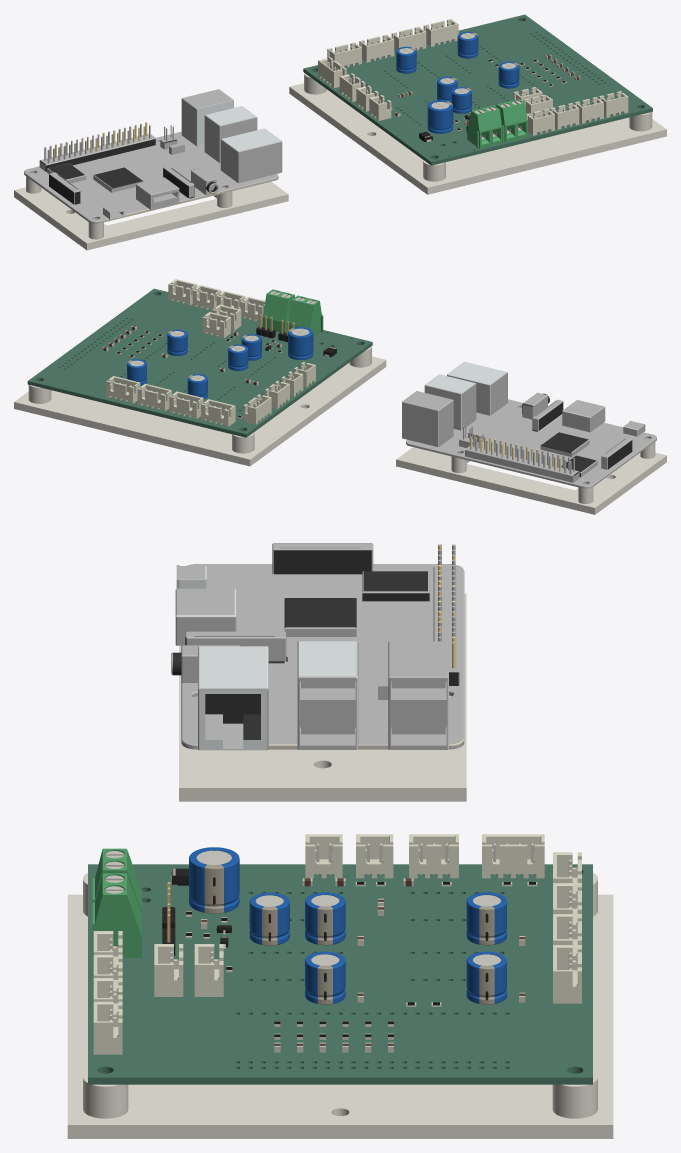
Rendered from electronics.glb.
3 views of the same model, one above another, from view 1: azimuth 30°, elevation 25°; view 2: azimuth 150°, elevation 25°; view 3: azimuth 270°, elevation 25° (orthographic). The views are drawn at different scales.
Visible parts, largest first — view 1: electronics (×11); view 2: electronics (×11); view 3: electronics (×11).
Part boxes in pixels (bbox=[...]): electronics (×11): bbox=[14, 14, 666, 250]; electronics (×11): bbox=[14, 279, 666, 514]; electronics (×11): bbox=[67, 543, 613, 1138].
Bounding box in the file's own units: 0.249 × 0.027 × 0.108.
